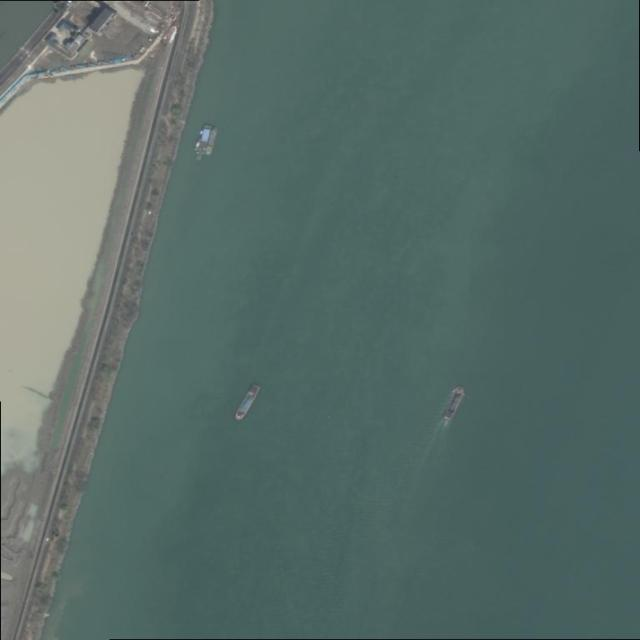ship: (234, 383, 262, 421), (443, 387, 466, 421), (195, 123, 214, 160), (206, 129, 218, 154)
